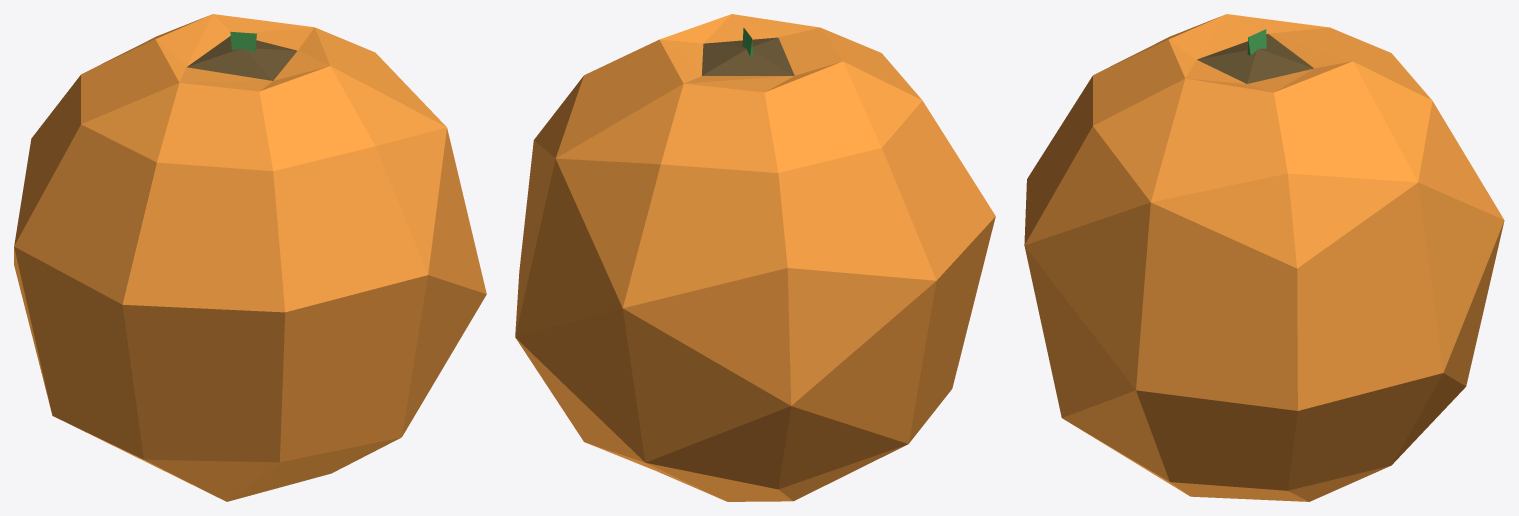
File: lowpoly_orange.fbx
3 renders of one model, left to right at view 1: azimuth 30°, elevation 25°; view 2: azimuth 150°, elevation 25°; view 3: azimuth 270°, elevation 25°, orthographic.
Visible parts, largest first — view 1: Sphere; view 2: Sphere; view 3: Sphere.
Boxes of the visible parts, x1,y1,x2,y2 form: Sphere: (14, 14, 486, 501); Sphere: (515, 14, 995, 501); Sphere: (1024, 14, 1504, 501).
Size of the model in its own units: 196 by 201 by 194.
